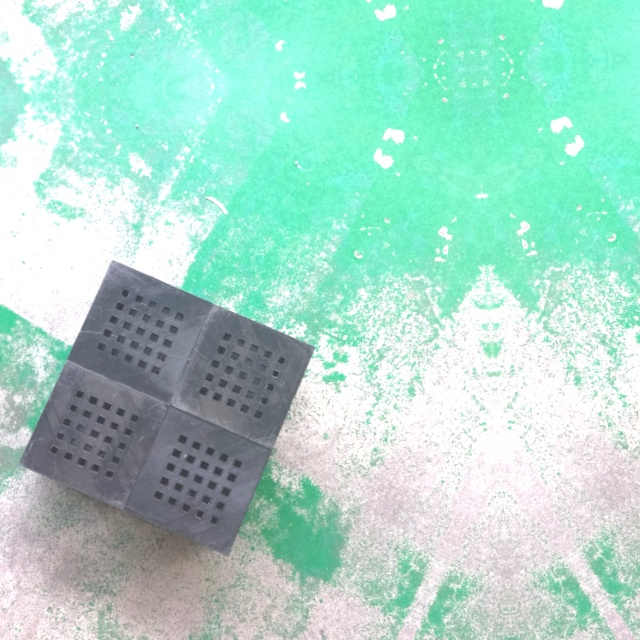pallet: (7, 247, 325, 567)
